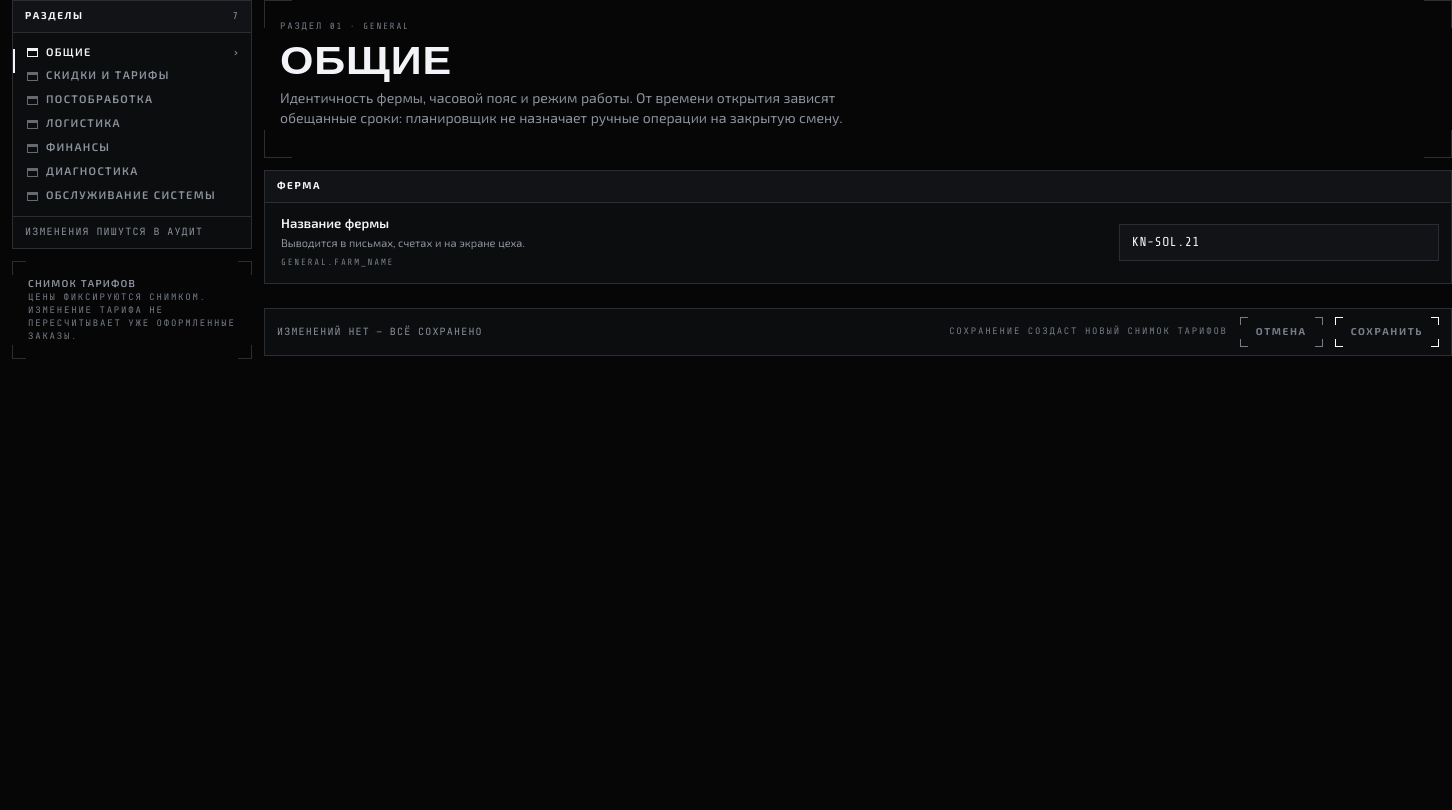
Test: the save bar › cancel discards every pending edit at once
Clear the field named "Название фермы" at (1279, 243), box [1119,224,1439,261]
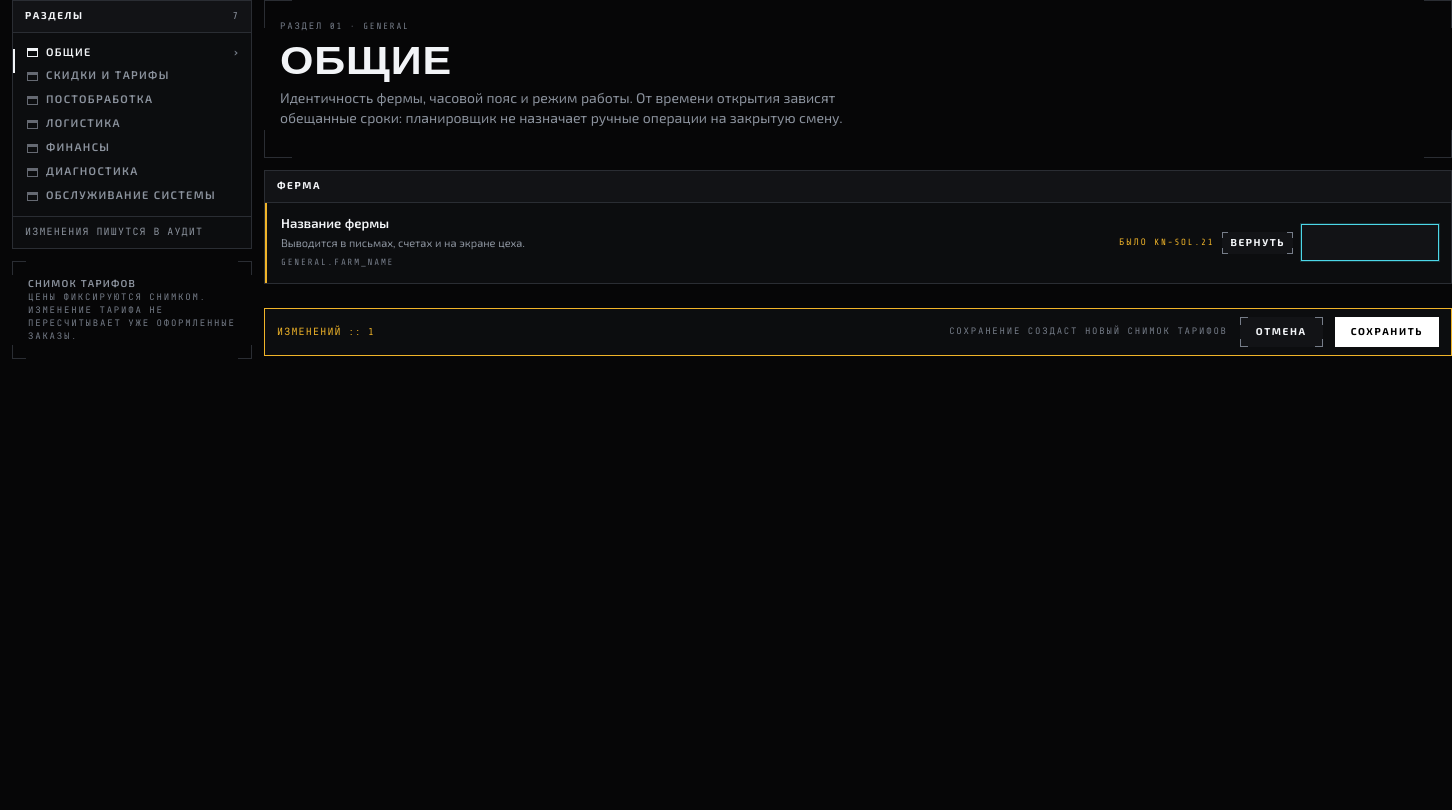
Type "KN-SOL.42" into the field named "Название фермы".
click(1370, 243); type("KN-SOL.42")  # box [1301,224,1439,261]
Click the tab "Скидки и тарифы".
click(132, 76)  # box [13,64,251,88]
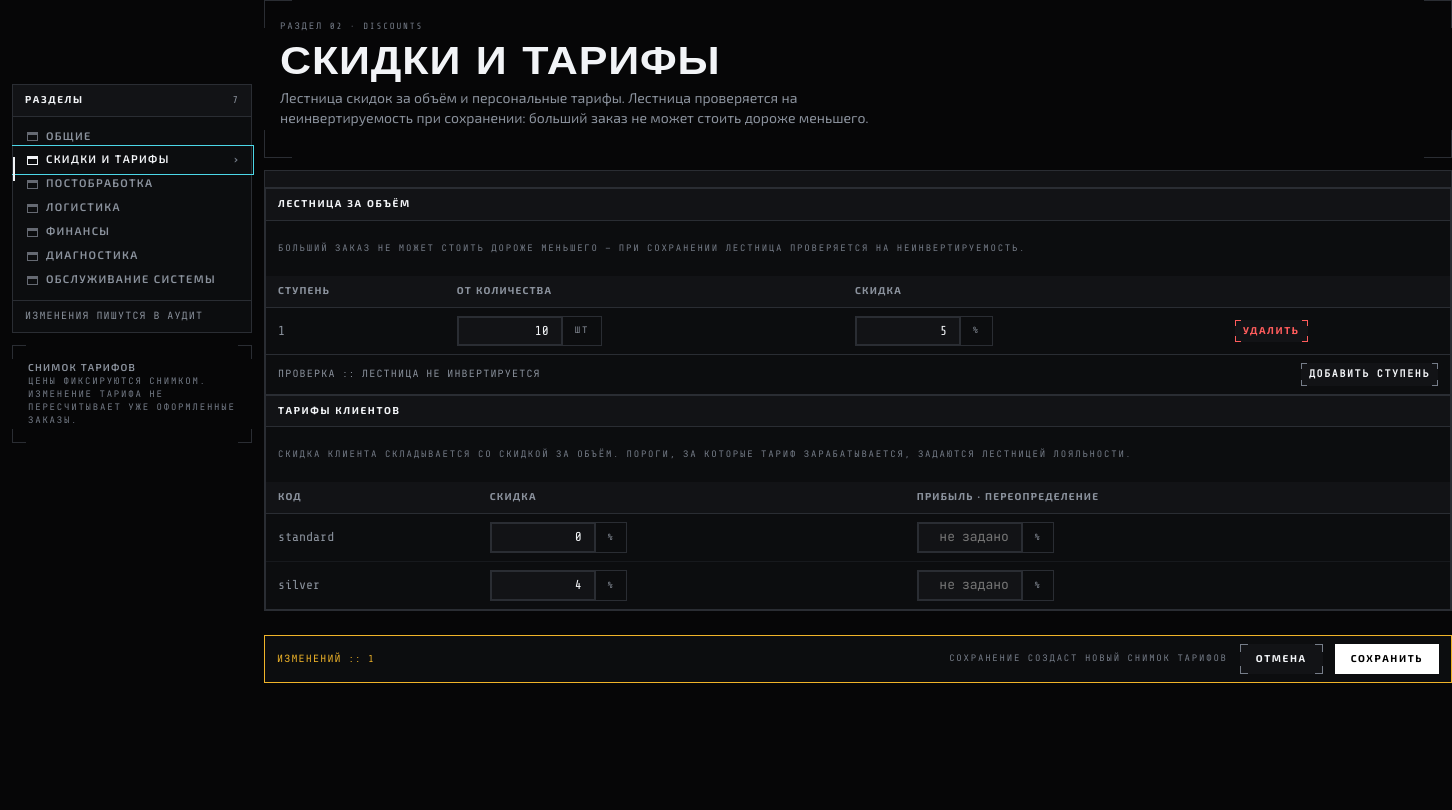
Clear the number field named "Скидка 1" at (908, 331), box [856,316,960,345]
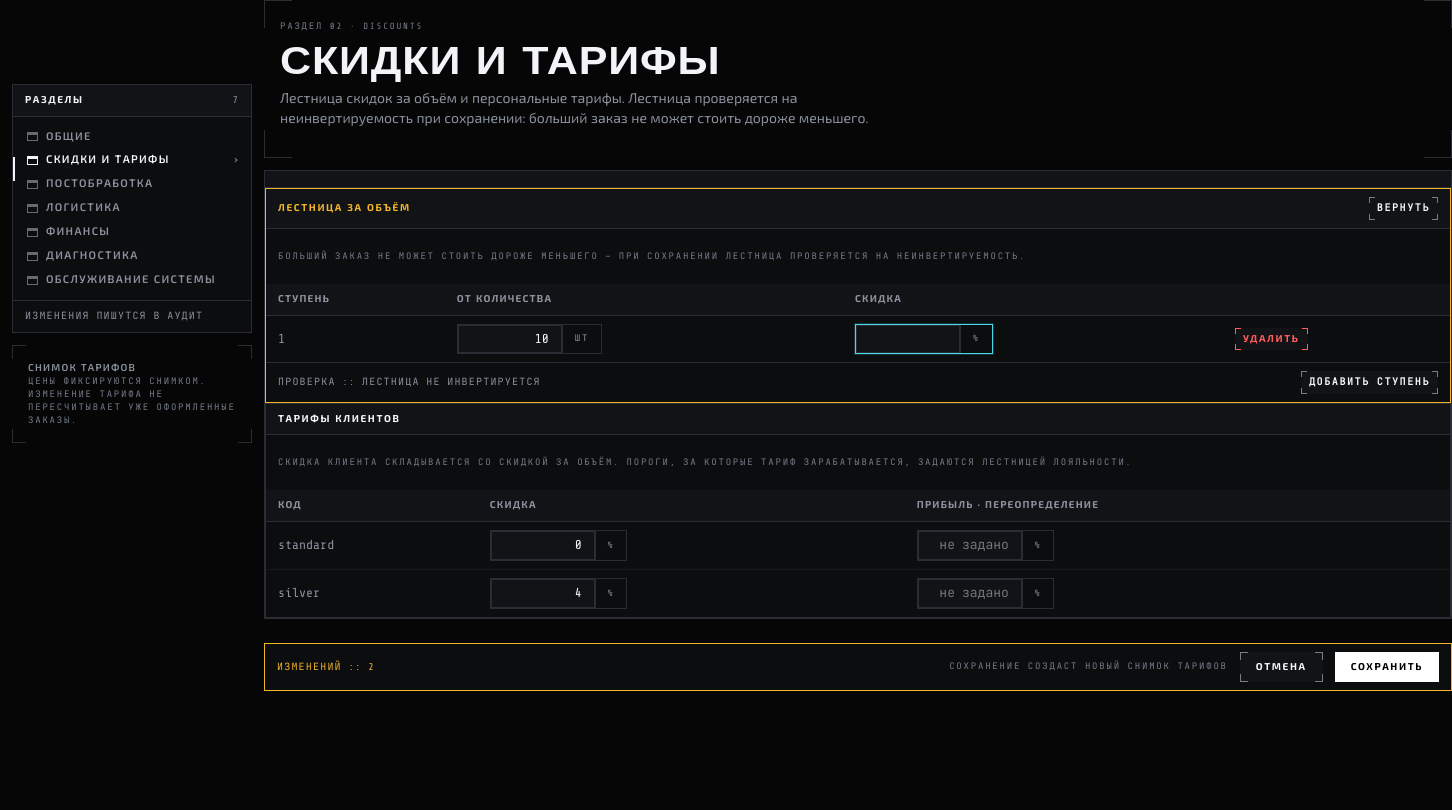
Type "9" into the number field named "Скидка 1".
click(908, 339); type("9")  # box [856,324,960,353]
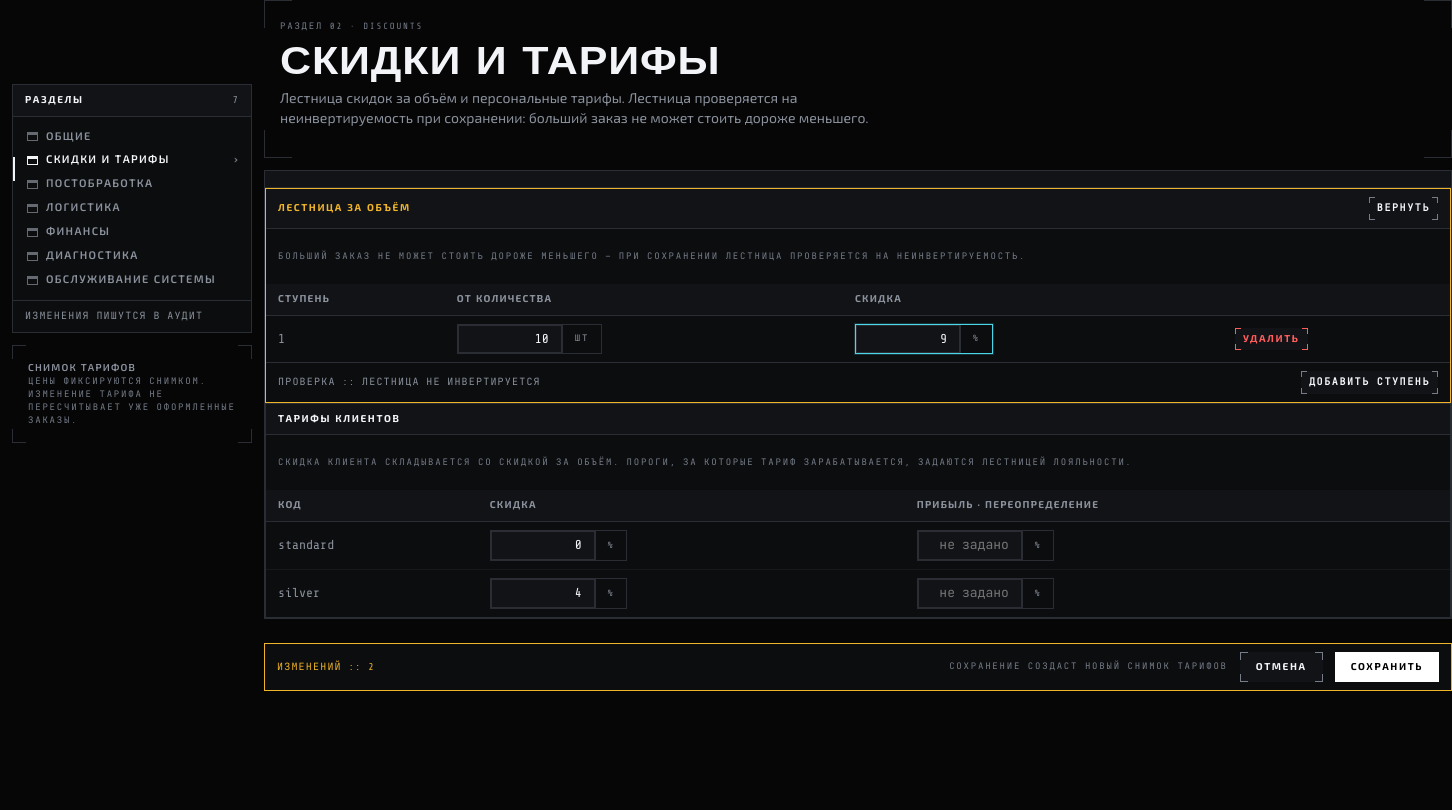
Result: the text "ИЗМЕНЕНИЙ :: 2" is shown at [277,660,375,674]
Click the button "Отмена".
click(1281, 667)  # box [1240,652,1323,682]
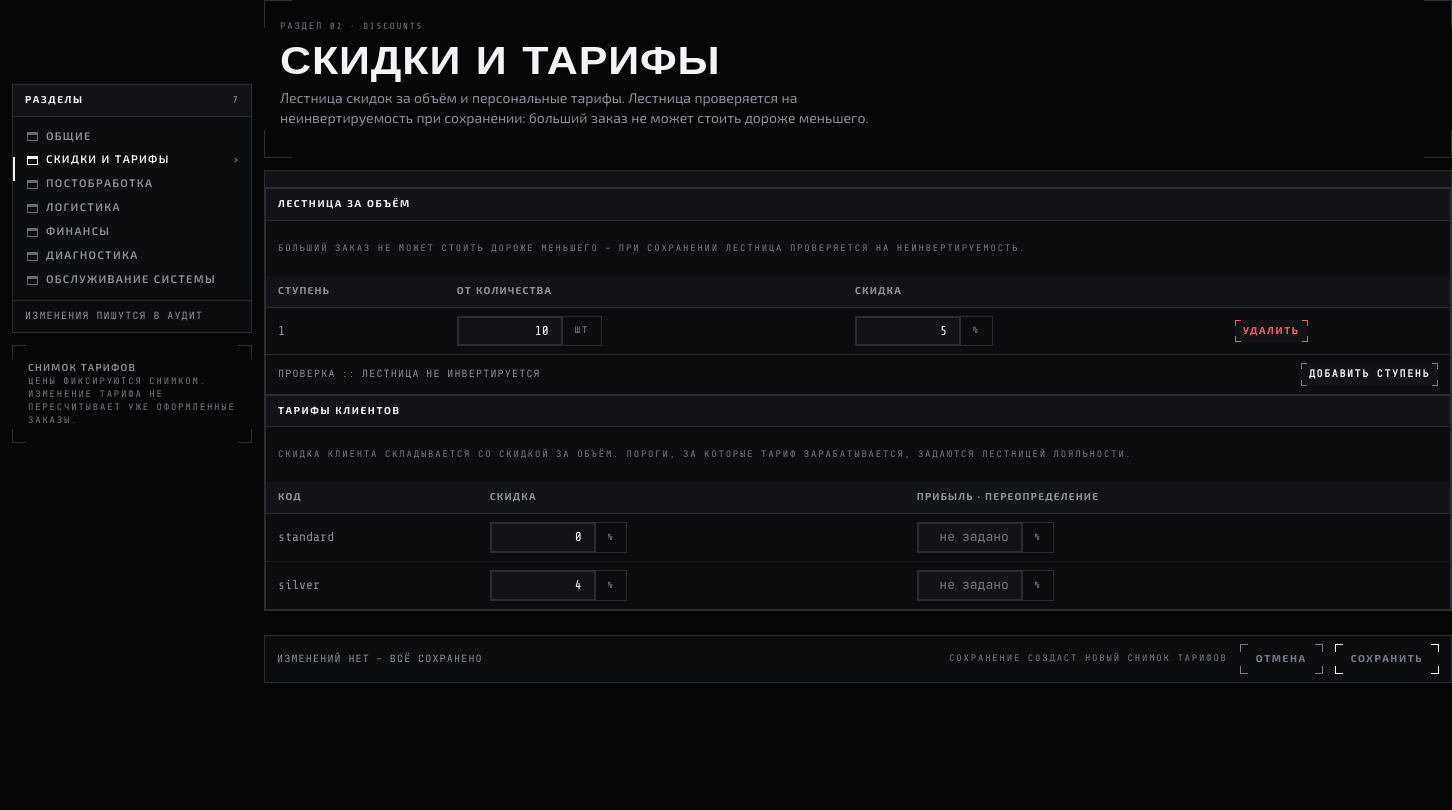
Result: the text "ИЗМЕНЕНИЙ НЕТ — ВСЁ СОХРАНЕНО" is shown at [277,652,483,666]
Result: the number field named "Скидка 1" holds "5" at [856,316,960,345]
Click the tab "Общие".
click(132, 136)  # box [13,124,251,148]
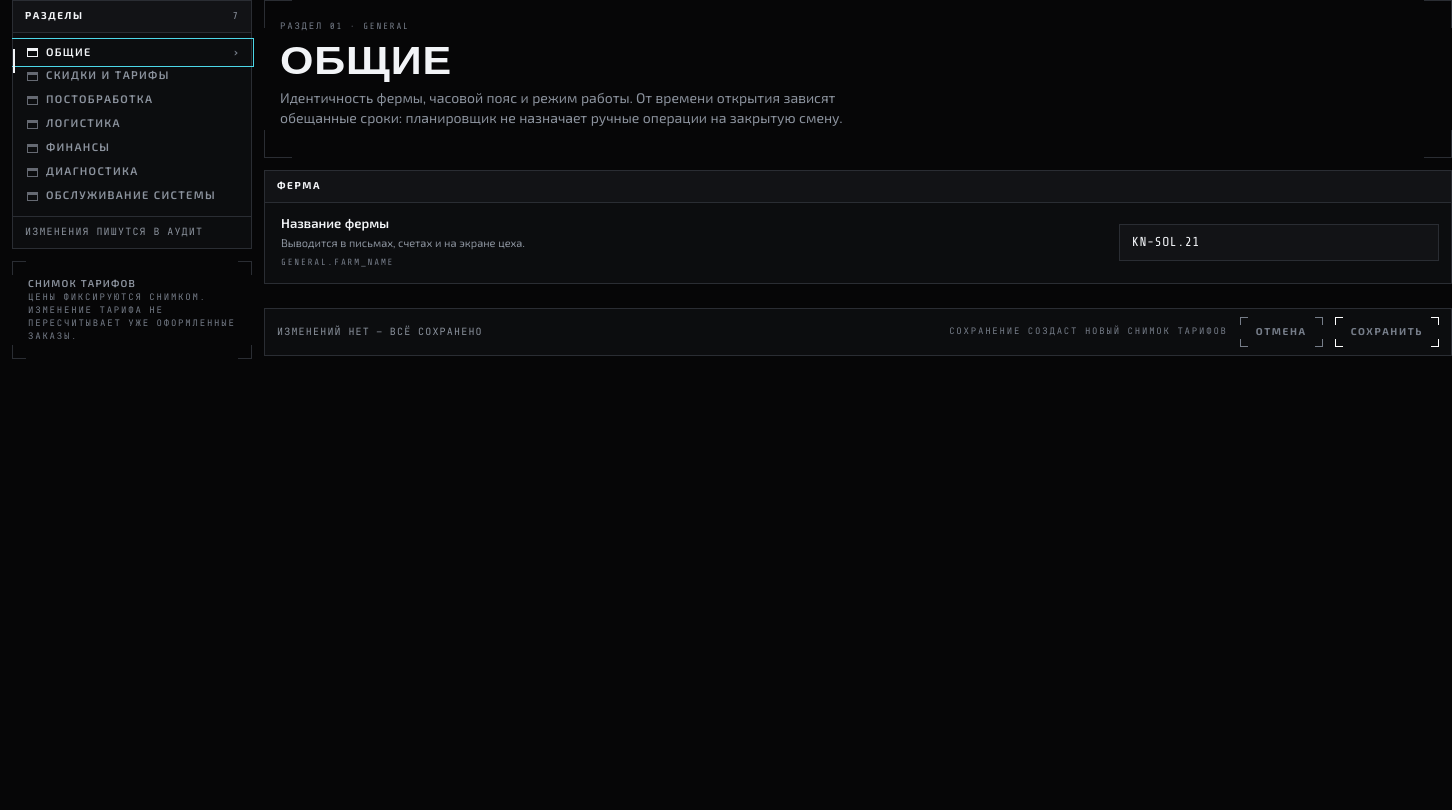
Result: the field named "Название фермы" holds "KN-SOL.21" at [1119,224,1439,261]
